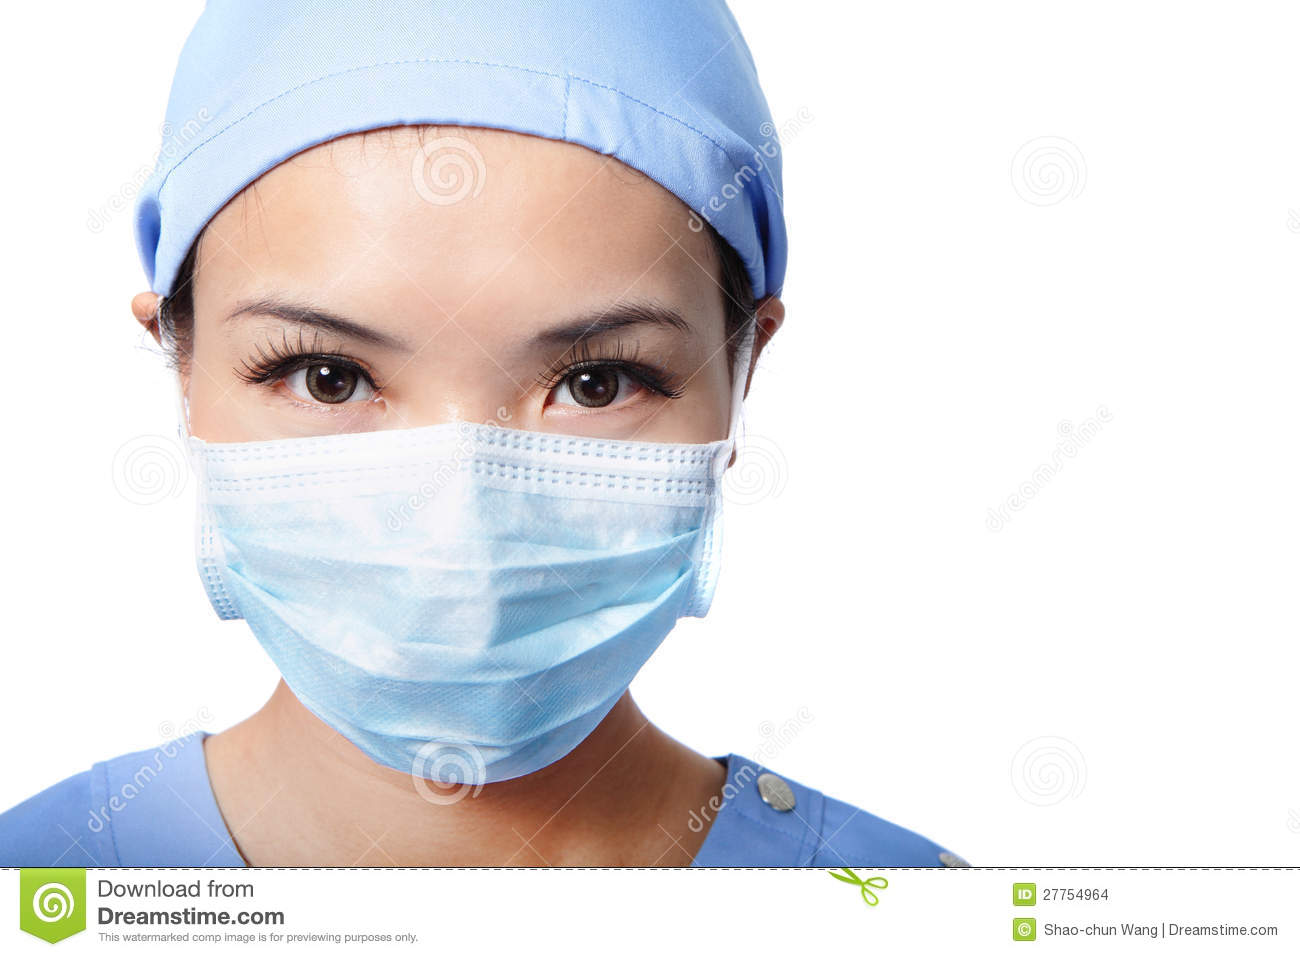mask: (168, 422, 703, 757)
